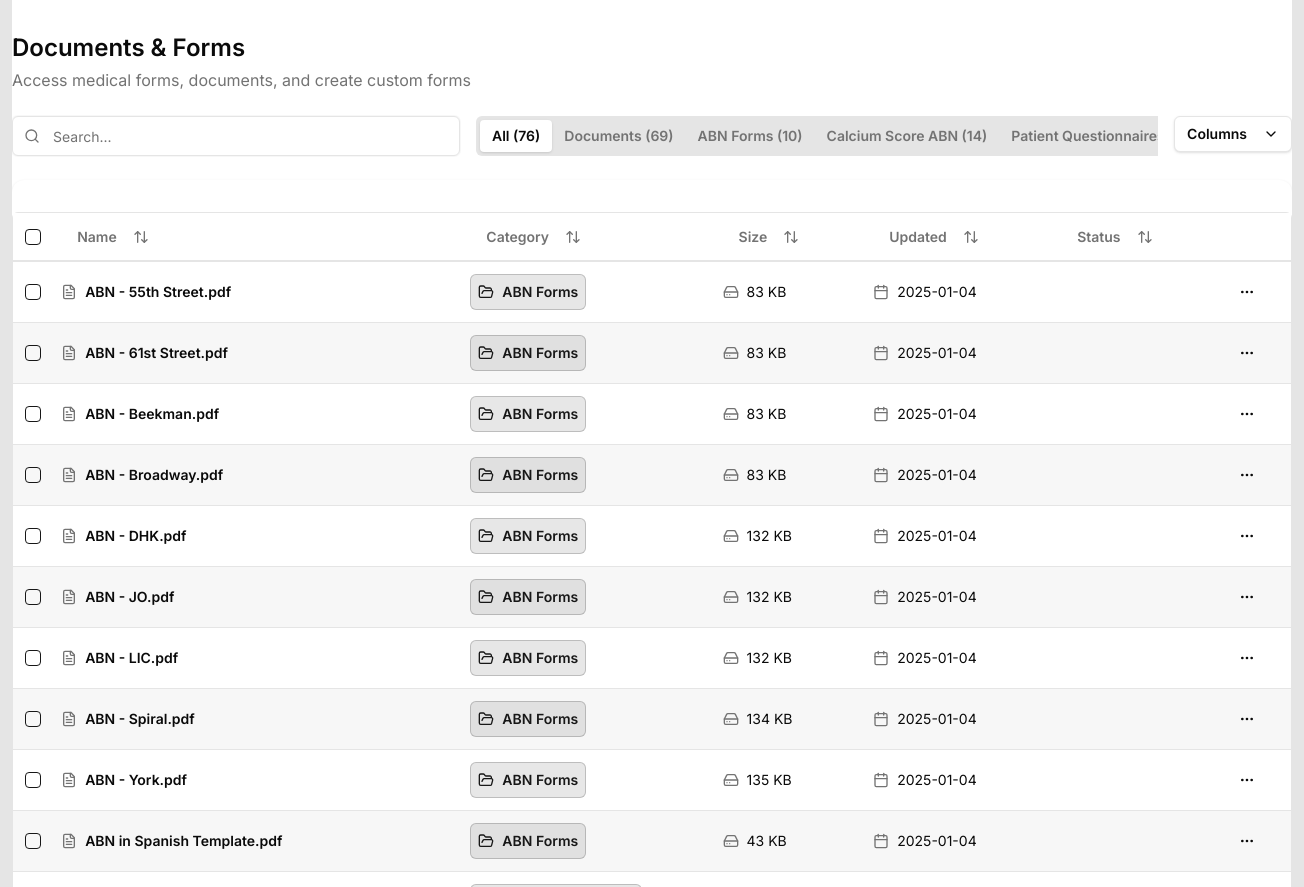
it: Documents Page › shows download buttons for each document
The width and height of the screenshot is (1304, 887).
Note: Click the first action button
Click the button named "Open menu" in the row of "ABN - 55th Street.pdf" at (1247, 292), box [1231,276,1263,308]
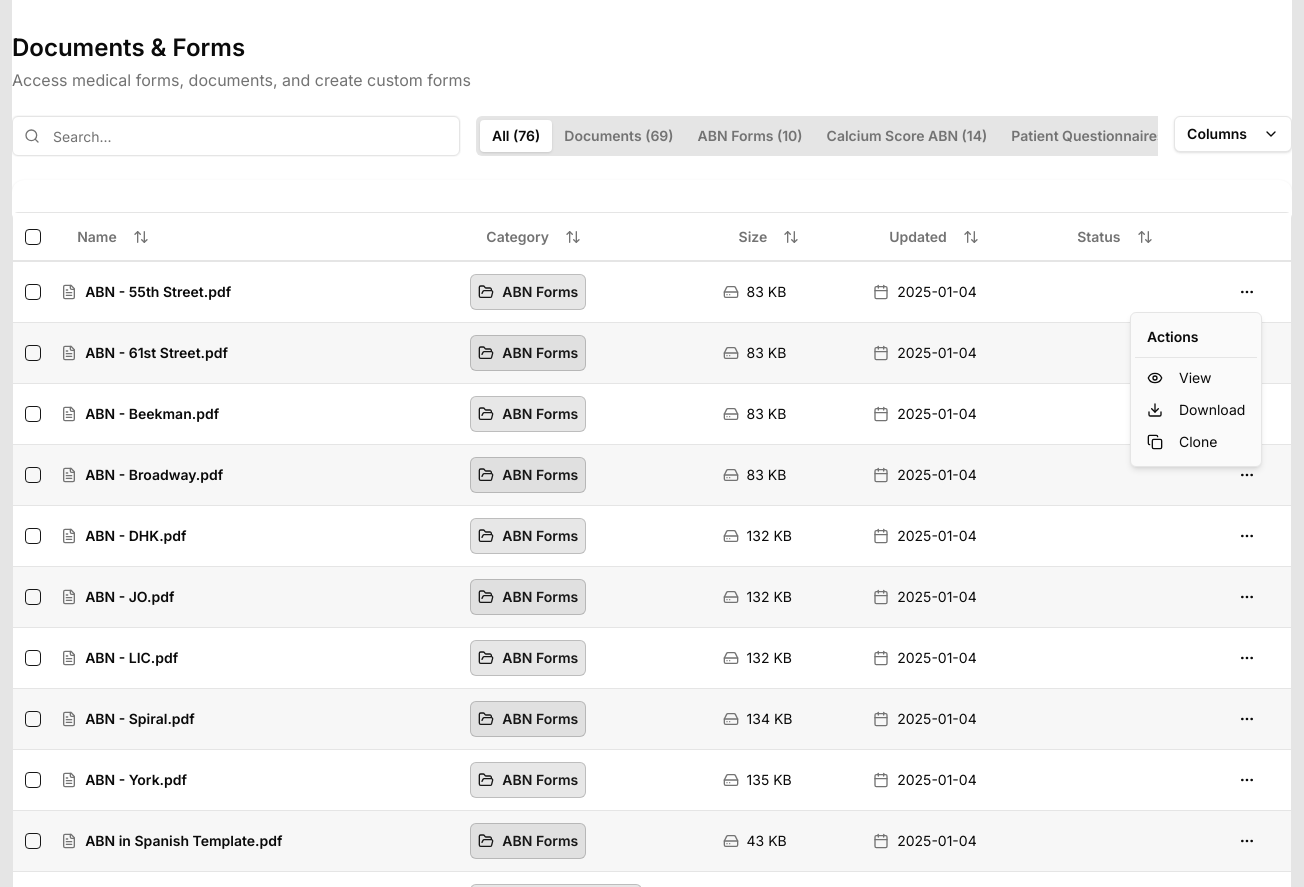
Expected: the menu item "Download" is shown, [1147,401,1245,418]
